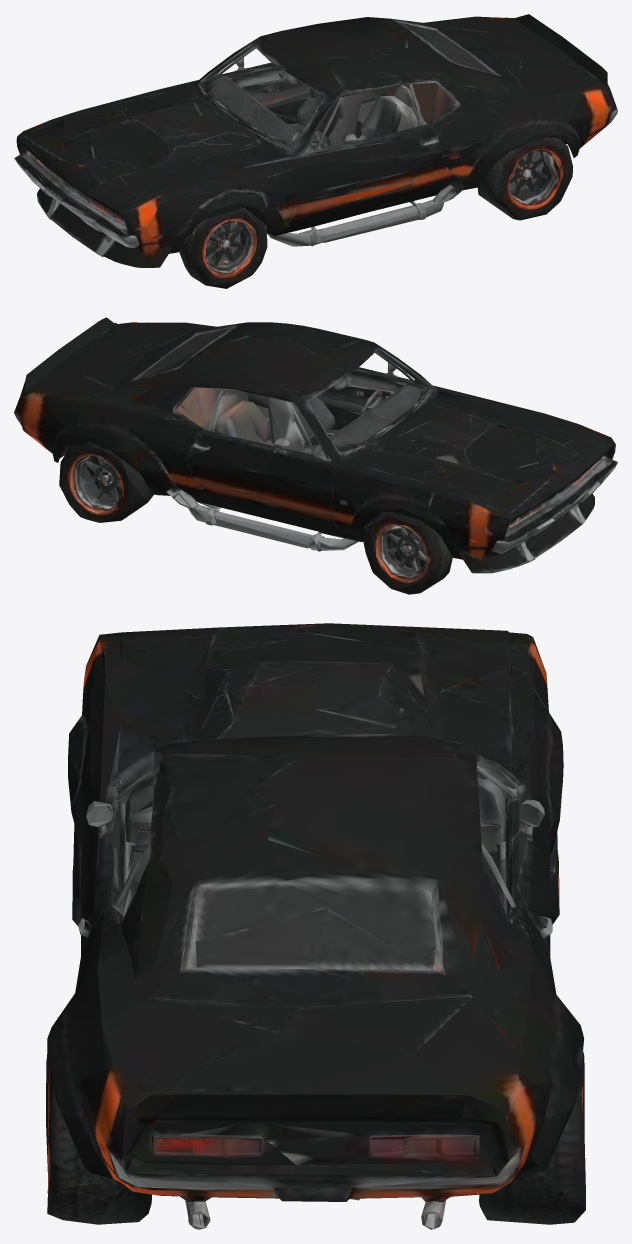
The model's file is mx_car_muscle.glb.
3 views of the same model, one above another, from view 1: azimuth 30°, elevation 25°; view 2: azimuth 150°, elevation 25°; view 3: azimuth 270°, elevation 25° (orthographic). The views are drawn at different scales.
Bounding box in the file's own units: 1.9 × 0.5526 × 0.8708.
Materials: 1 (1 with a texture image).
